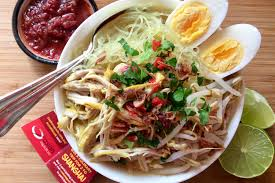soto: (53, 1, 275, 182)
